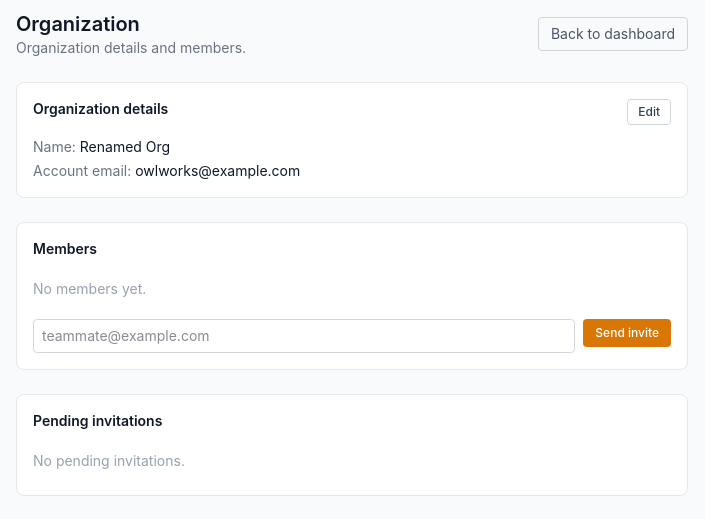
OrganizationPage › sends an invitation
Type "new@example.com" into the field with test id "new-member-email" at (304, 336), box [33,319,575,353]
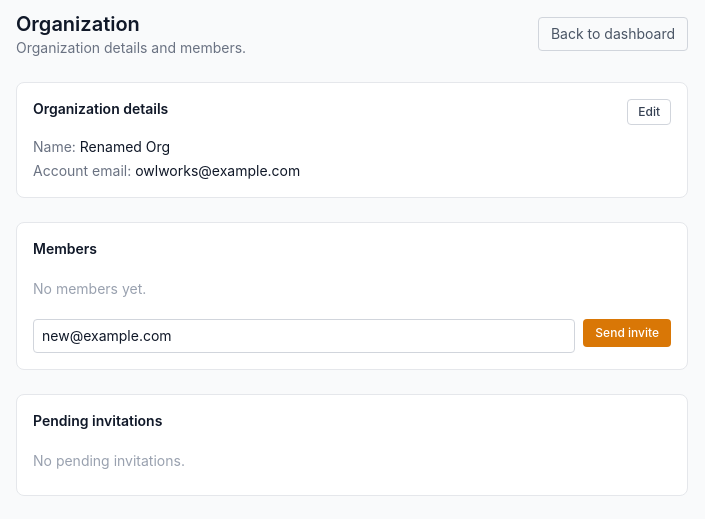
Click the button with test id "send-invite" at (627, 333), box [583,319,671,347]
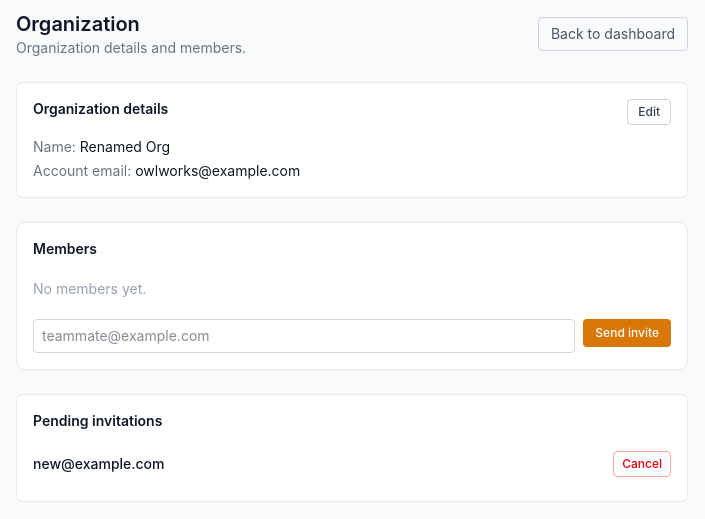
Now the text "new@example.com" is shown, box [33,455,164,472]
